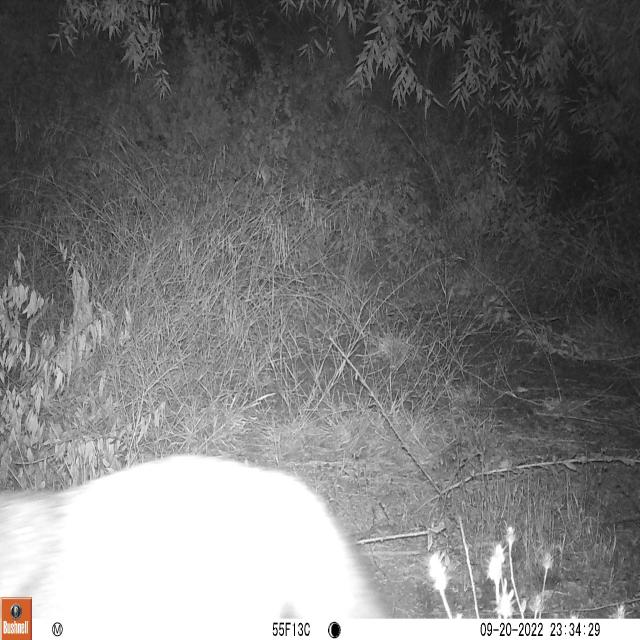Coyote: (0, 446, 397, 609)
